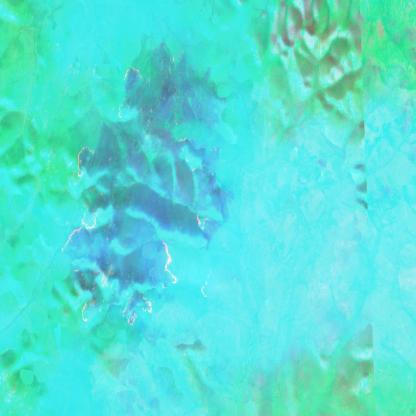fire: (56, 209, 178, 326), (116, 53, 152, 119), (197, 211, 214, 298), (72, 141, 98, 184)
